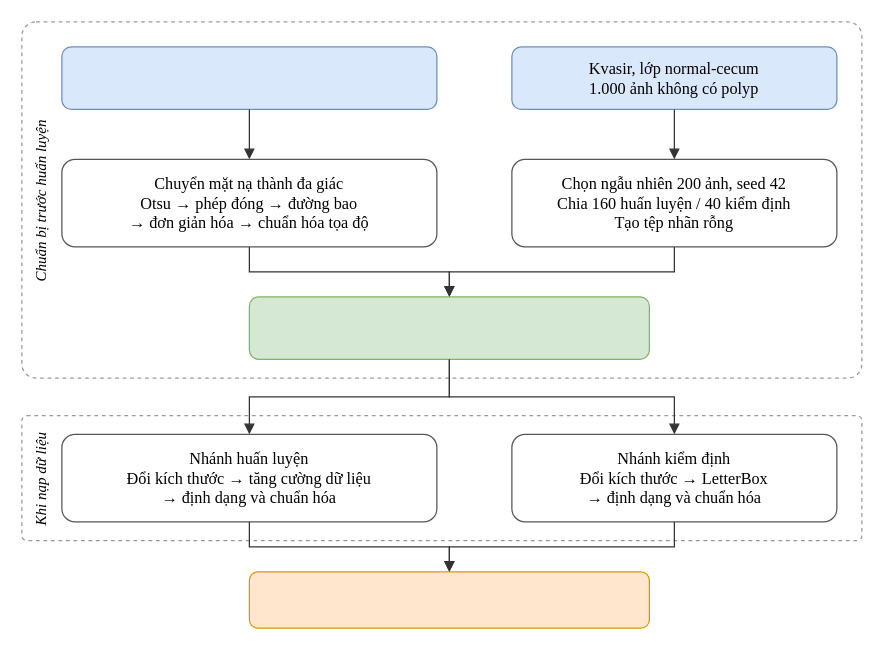
The diagram is 884 pixels wide and 650 high, and some of its shapes have lost their labels. The shapes that lost their labels are listed below. From the top down, each one's centre as x and y in pixels, then its label:
(249,77): Kvasir-SEG 1.000 ảnh polyp và mặt nạ
(448,327): Bộ dữ liệu BG20 định dạng YOLO Huấn luyện 1.040 ảnh, kiểm định 160 ảnh
(448,599): Mô hình YOLO26-seg + TSVM
